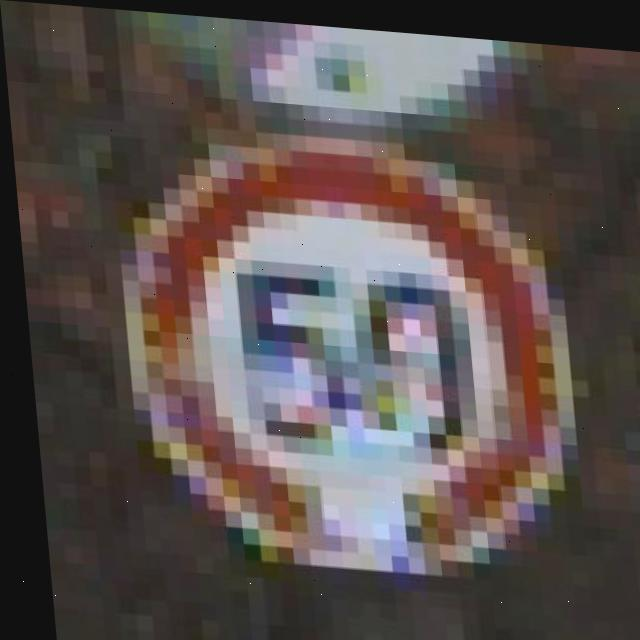Speed limit 50: (115, 125, 571, 583)
